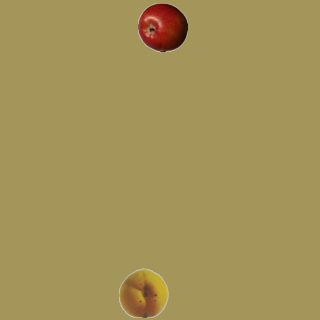Apple Braeburn: (137, 2, 187, 52)
Peach 2: (118, 267, 168, 317)
